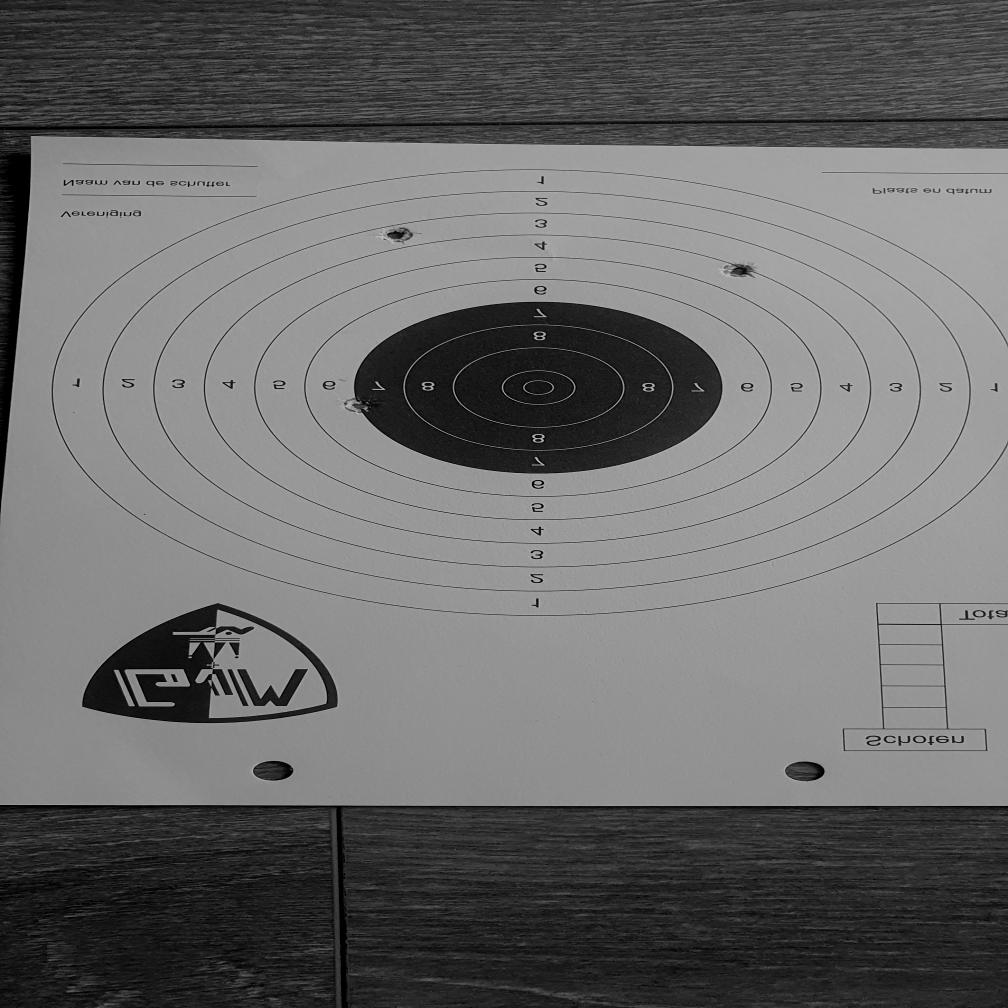3: (372, 225, 422, 245)
4: (719, 261, 759, 279)
7: (335, 396, 384, 415)
Target: (45, 166, 1008, 618)
black_contour: (355, 301, 721, 474)
